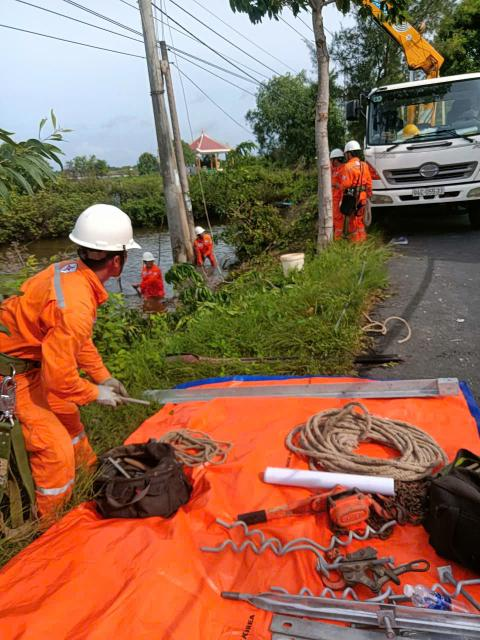gloves: (100, 368, 151, 405), (88, 381, 117, 412)
harness: (0, 342, 49, 393), (335, 182, 372, 193)
helmet: (54, 199, 147, 263), (346, 138, 372, 164), (314, 143, 344, 162), (186, 222, 213, 242), (134, 252, 164, 264)
